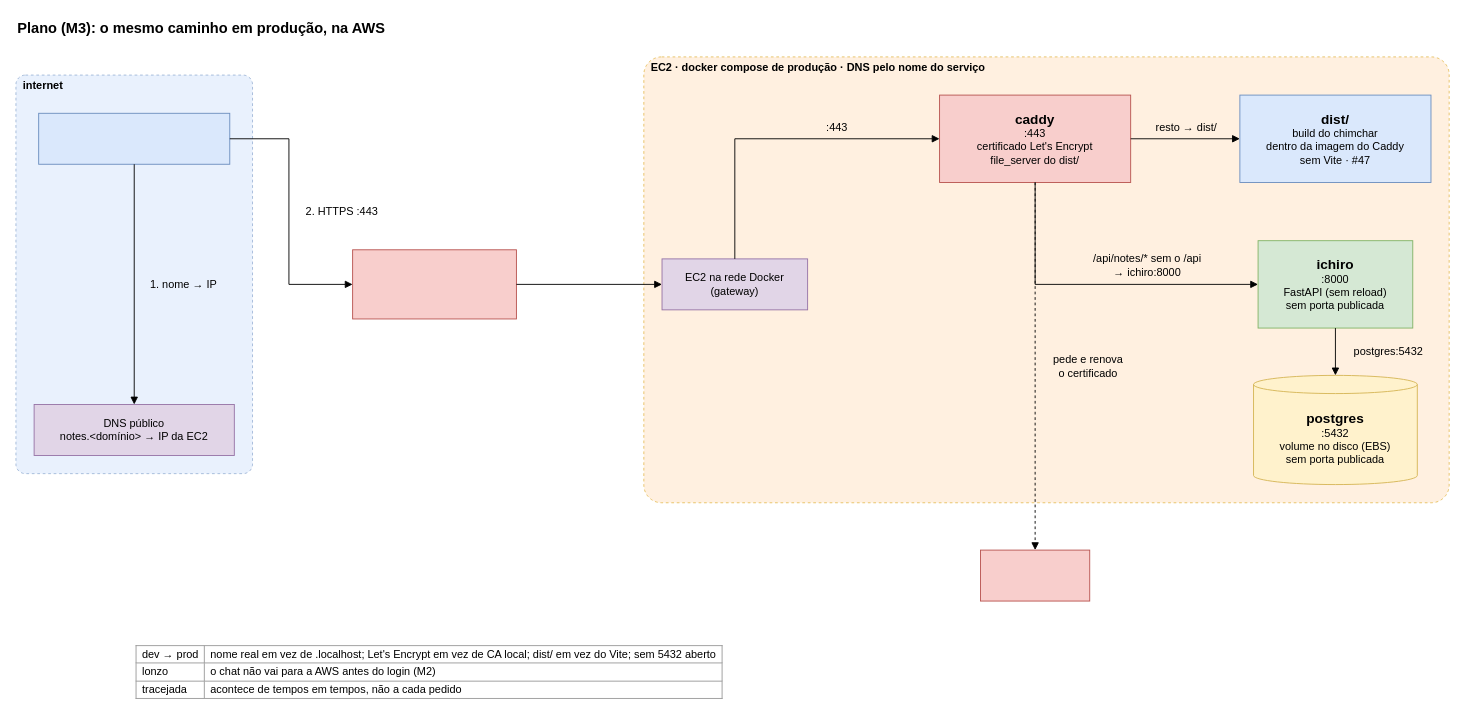
Image size: 1465x720. Some labels were removed from this diagram. The shapes that lost their labels are listed below. From the top down, each one's centre as x and y in pixels, then its label:
At pixel 134 138: "navegador (qualquer lugar) https://notes.<domínio>".
At pixel 434 284: "security group da EC2 abre só 80 e 443 (5432 fechado)".
At pixel 1035 575: "Let's Encrypt (CA pública)".
